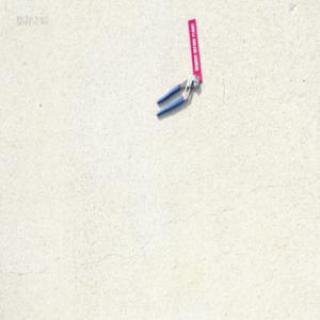LuggageTagtrack_idkeyframe: (186, 18, 201, 82)
Pliertrack_idkeyframe: (154, 72, 200, 117)
